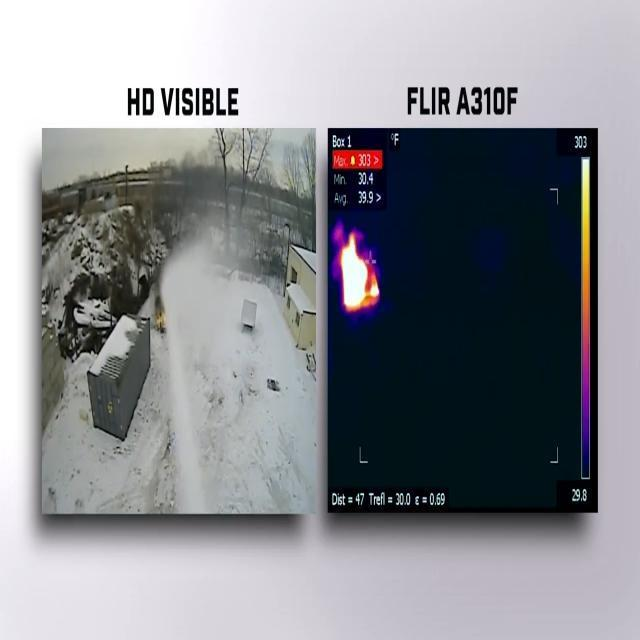fire: (340, 230, 381, 315)
